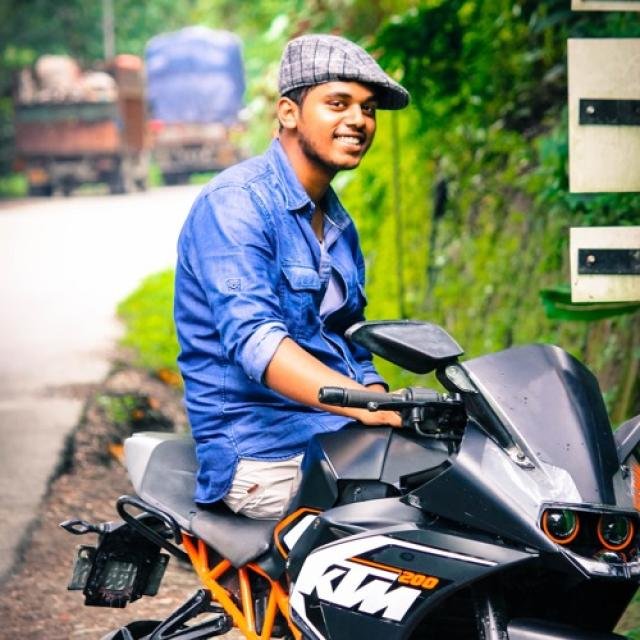illegal_helmet: (269, 27, 413, 178)
